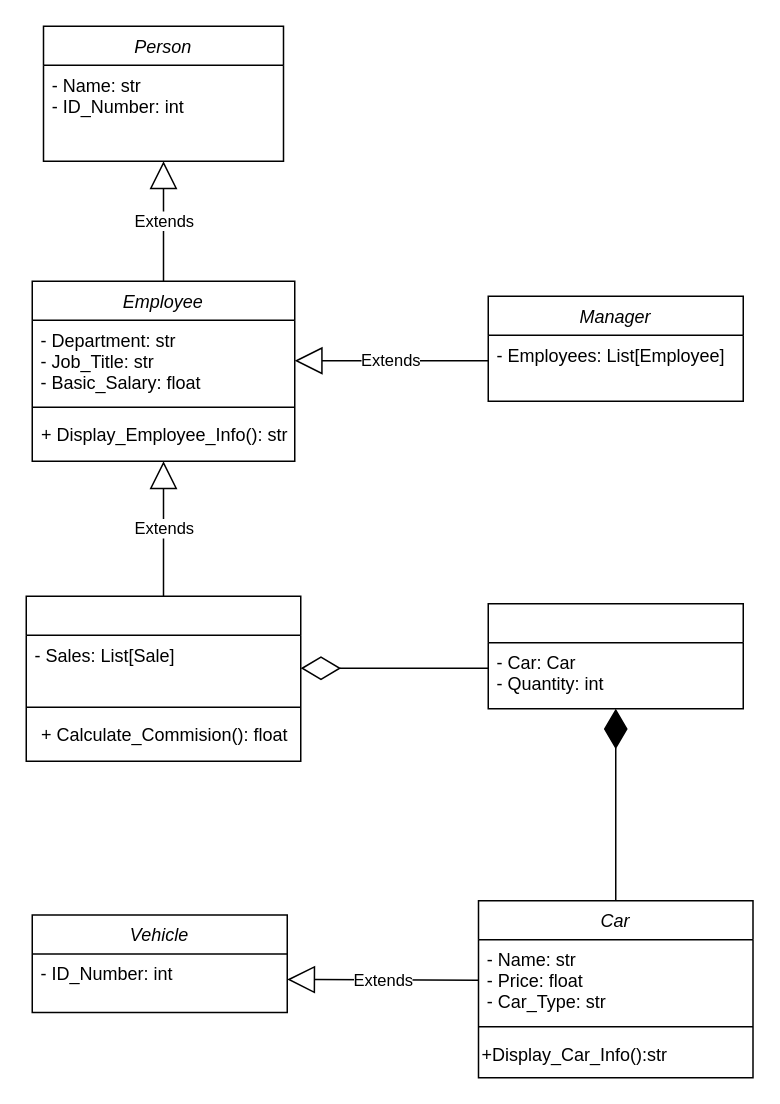
The diagram is 780 pixels wide and 1104 high, and some of its shapes have lost their labels. Each missing label, with the box of its shape:
Sale: (487, 602, 743, 709)
Salesperson: (25, 595, 301, 761)
